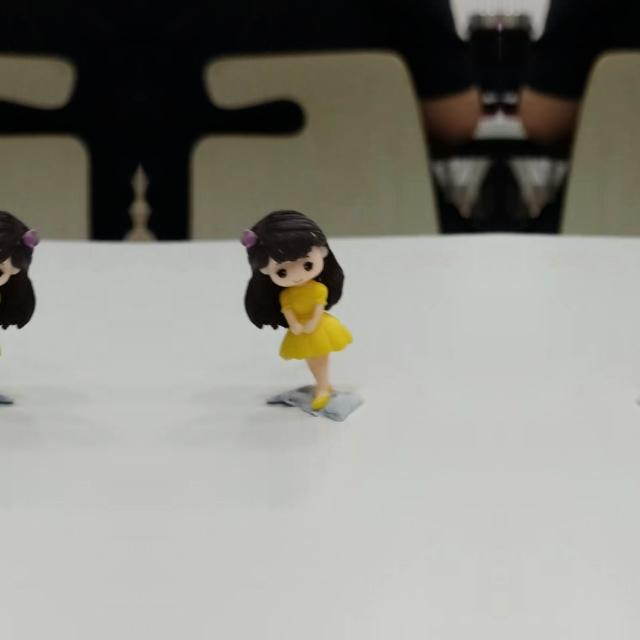woman head: (240, 206, 330, 290), (0, 206, 40, 289)
